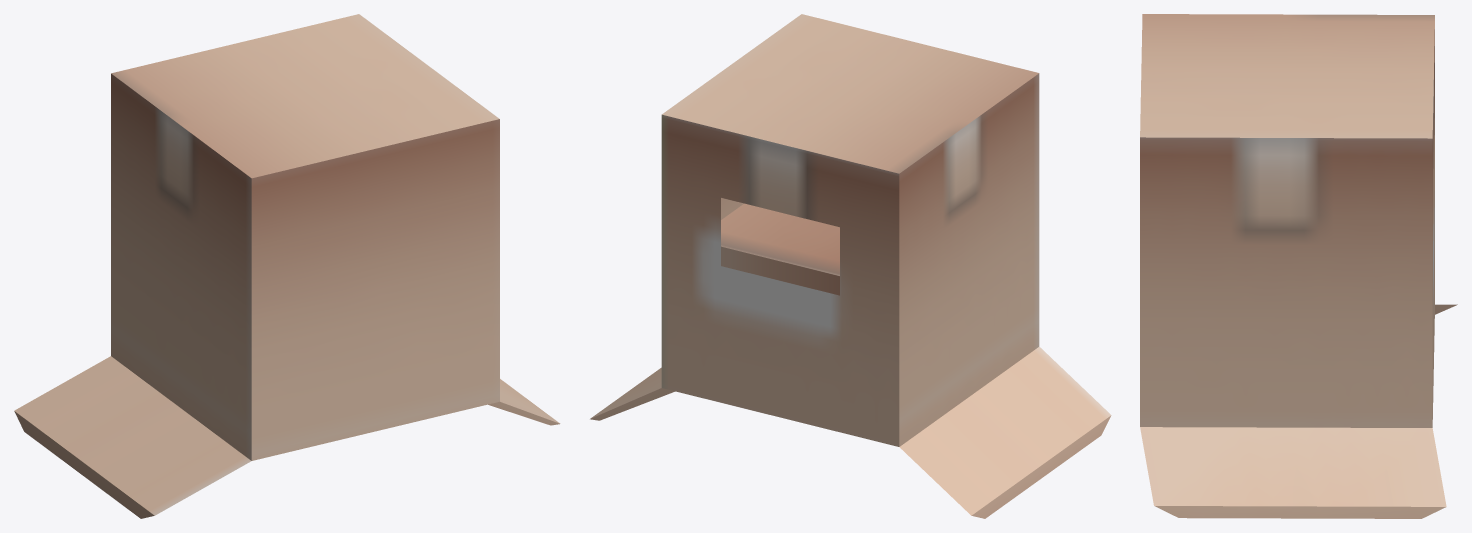
Rendered from Box_Costume_Prefab.fbx.
The picture shows the model from 3 angles, left to right: view 1: azimuth 30°, elevation 25°; view 2: azimuth 150°, elevation 25°; view 3: azimuth 270°, elevation 25°; orthographic projection. The views are drawn at different scales.
Visible parts, largest first — view 1: BoxCostume; view 2: BoxCostume; view 3: BoxCostume.
Boxes of the visible parts, x1,y1,x2,y2 form: BoxCostume: [14, 14, 560, 518]; BoxCostume: [590, 14, 1111, 518]; BoxCostume: [1140, 14, 1457, 518].
Bounding box in the file's own units: 781 × 620 × 517.
